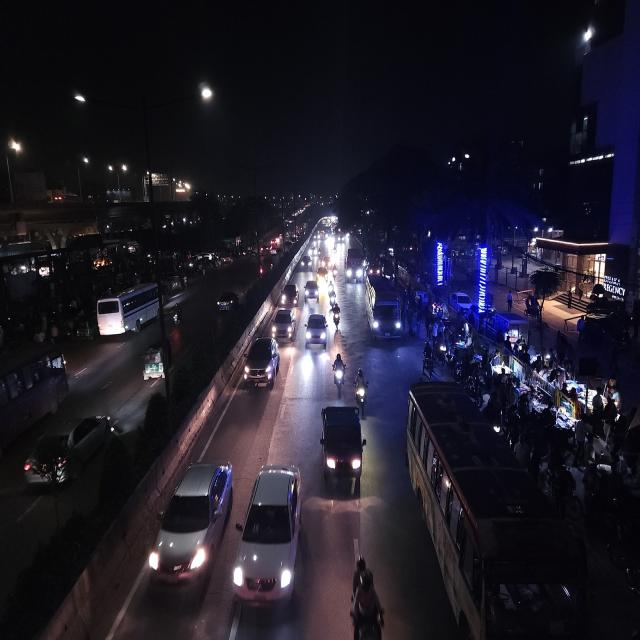bus: (400, 384, 585, 640), (0, 342, 72, 449), (96, 281, 164, 338), (362, 272, 404, 344), (344, 245, 364, 285)
car: (145, 455, 234, 598), (236, 458, 306, 618), (19, 408, 121, 498), (242, 332, 282, 393), (270, 307, 298, 343), (304, 310, 328, 351), (215, 289, 242, 316), (450, 288, 474, 316), (280, 280, 300, 309), (303, 278, 321, 304), (297, 252, 313, 273), (316, 267, 329, 282)
cng: (141, 340, 172, 387)
motorcycle: (345, 552, 389, 640), (353, 366, 370, 413), (331, 350, 347, 396), (331, 298, 342, 330), (170, 304, 183, 329), (327, 284, 337, 306), (332, 264, 338, 282)
truck: (319, 402, 365, 488)
